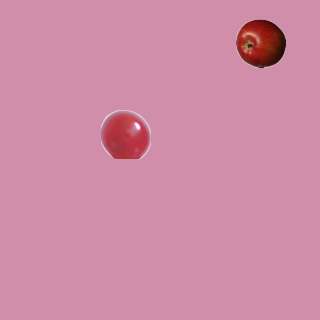Apple Braeburn: (235, 18, 285, 68)
Redcurrant: (100, 109, 150, 159)
